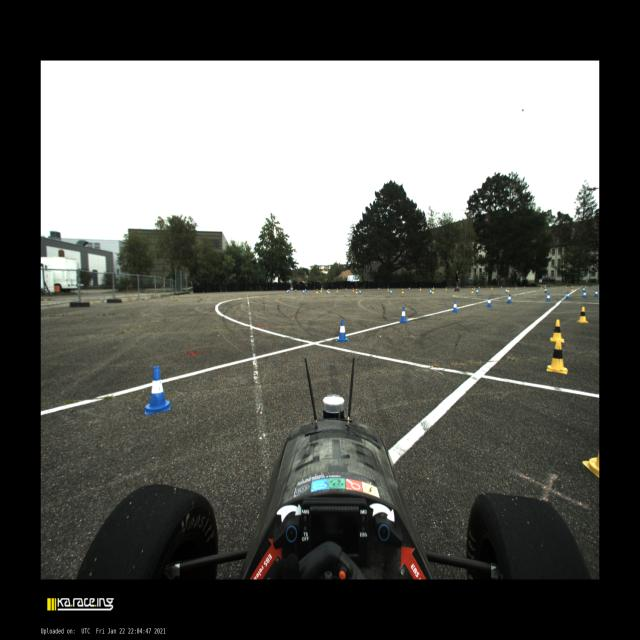blue_cone: (145, 366, 170, 414), (336, 320, 349, 342), (400, 307, 407, 323), (452, 301, 458, 312), (486, 297, 492, 307), (507, 294, 512, 303), (565, 292, 570, 300), (582, 291, 587, 298), (546, 294, 550, 302), (594, 289, 598, 297), (476, 288, 479, 294), (582, 287, 585, 292), (429, 290, 432, 294), (506, 288, 508, 293), (295, 288, 297, 292), (288, 289, 290, 293), (544, 288, 546, 292), (359, 290, 361, 294), (390, 290, 392, 294), (345, 288, 347, 292), (378, 287, 380, 290), (563, 285, 565, 288), (303, 289, 304, 294), (287, 289, 288, 294), (327, 289, 328, 294), (305, 288, 306, 292), (479, 286, 480, 290), (501, 286, 502, 289), (409, 287, 410, 290), (524, 286, 525, 289)
yellow_cone: (546, 340, 568, 374), (550, 320, 564, 342), (576, 307, 589, 323), (431, 288, 434, 294), (355, 288, 358, 294), (471, 288, 474, 293), (419, 286, 422, 290), (316, 288, 318, 294), (328, 288, 330, 294), (571, 286, 573, 291), (507, 287, 509, 292), (320, 288, 322, 293), (387, 287, 389, 291), (336, 288, 338, 292), (352, 288, 354, 292), (473, 286, 475, 290), (491, 286, 493, 290), (402, 288, 403, 294), (565, 285, 567, 288), (446, 287, 447, 290), (516, 286, 517, 289), (541, 286, 542, 289)
